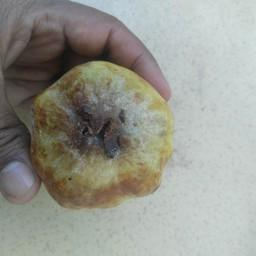Bad_guava: (28, 58, 175, 213)
